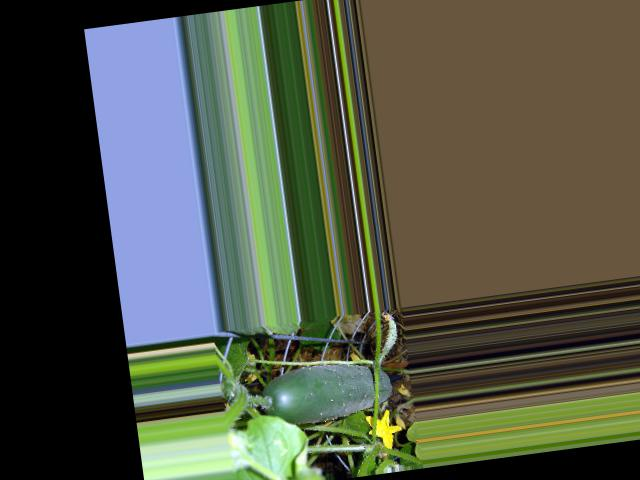cucumber: (257, 354, 394, 428)
